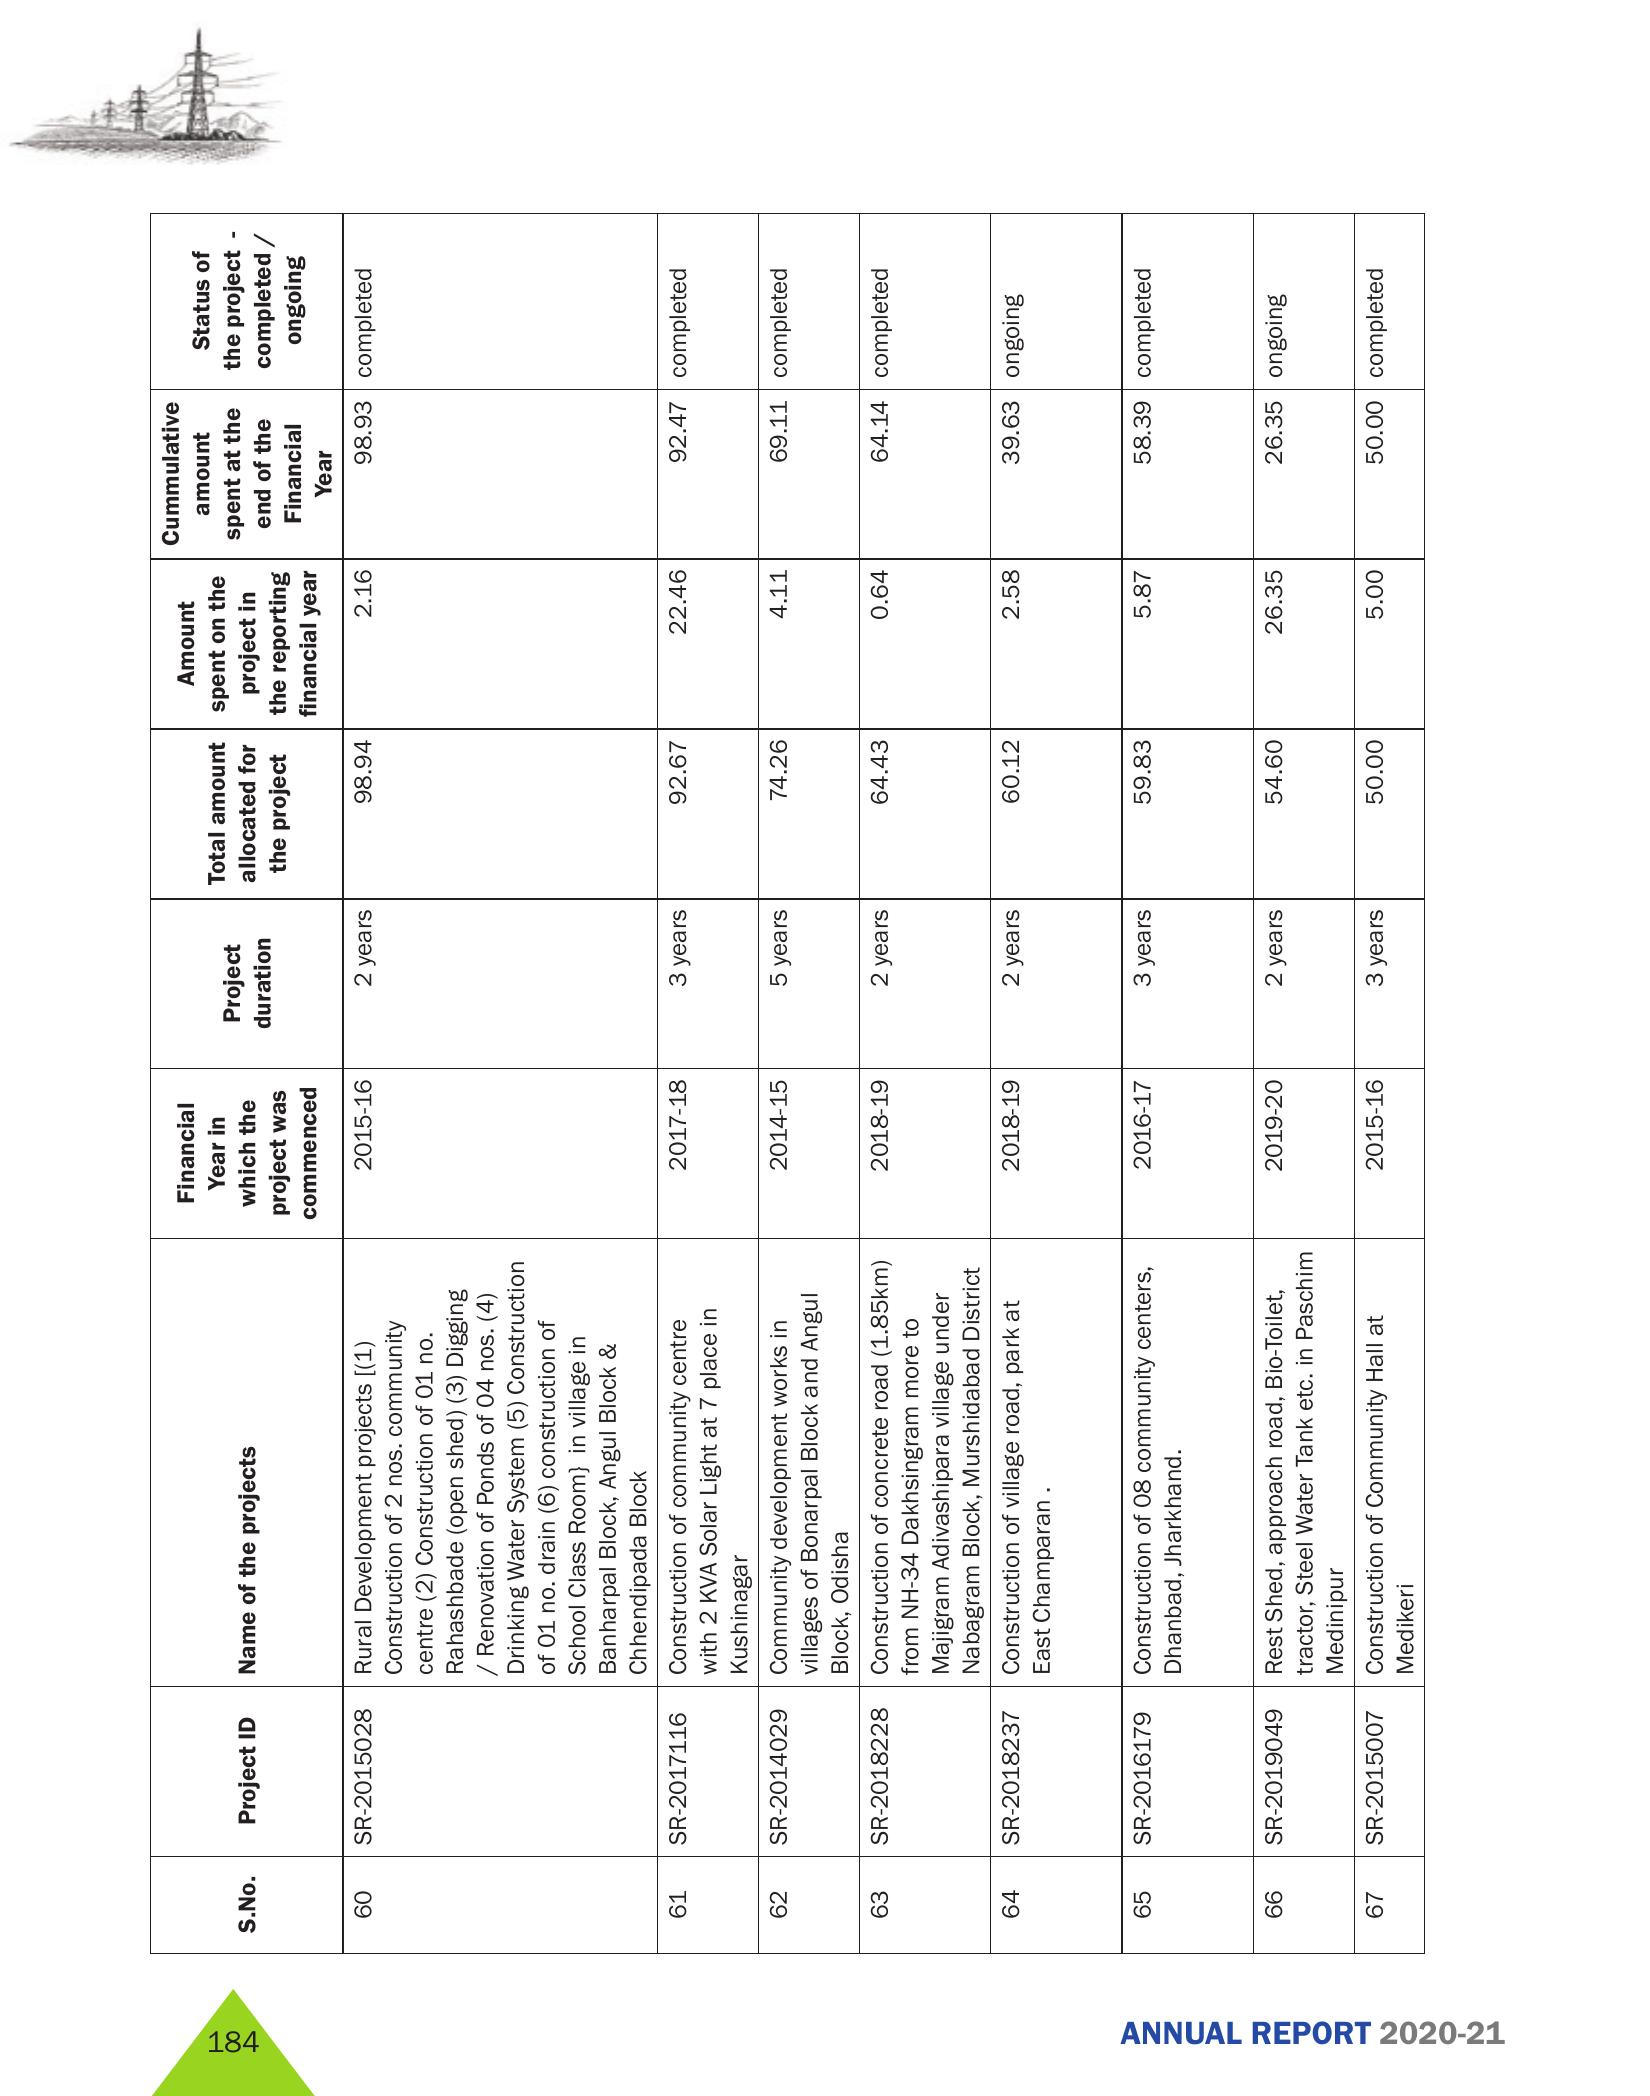Footer: (0, 1974, 1650, 2096)
Header: (0, 0, 1650, 189)
Table: (139, 208, 1425, 1982)
